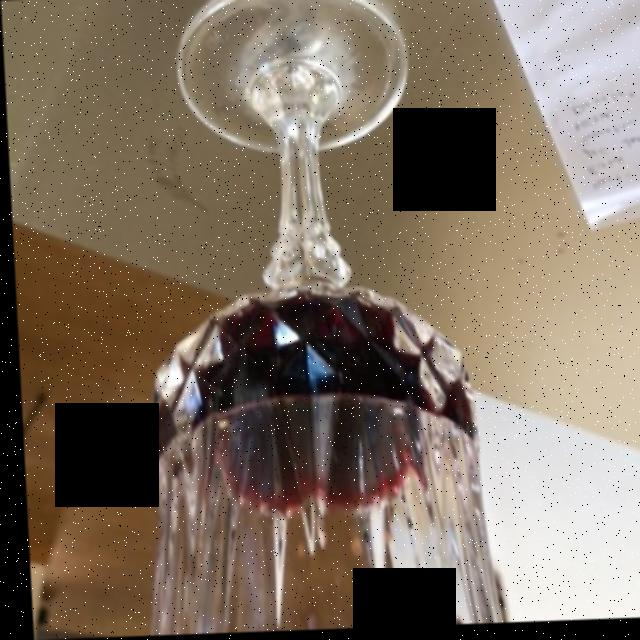wine-red: (165, 319, 453, 515)
